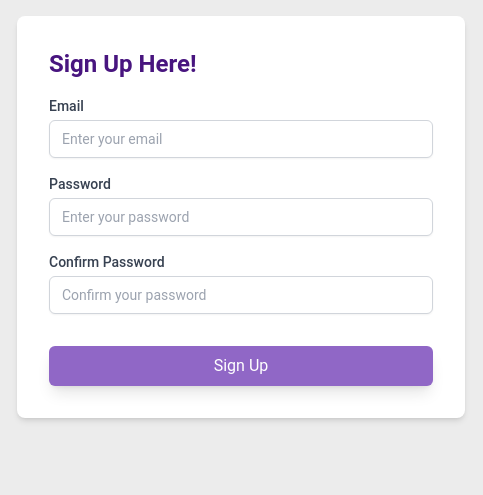
Scenario: SignupForm suite tests › should display validation errors
Click the button "Sign Up": (241, 366) [49,346,433,386]
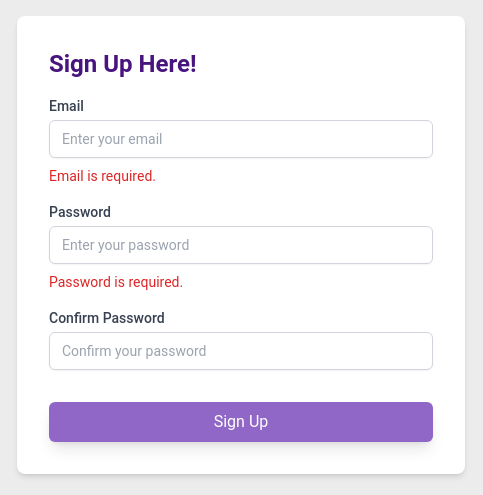
Now the text "Email is required." is shown, box [49,168,156,184]
Now the text "Password is required." is shown, box [49,274,183,290]
In the field with placeholder "Enter your email": (241, 139) [49,120,433,158], type "test@example.com"
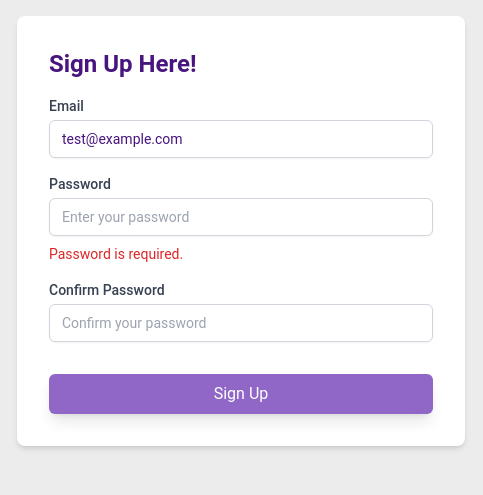
In the password field with placeholder "Enter your password": (241, 217) [49,198,433,236], type "Password1!"
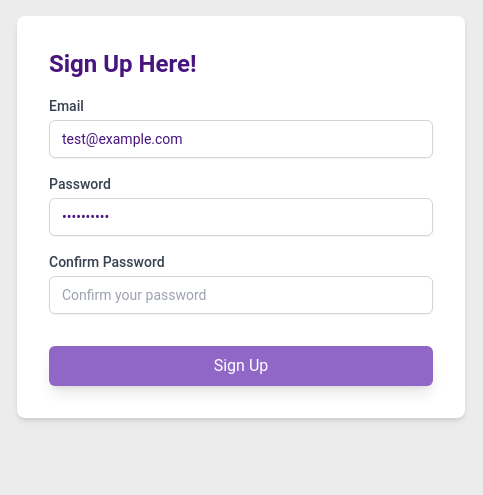
In the password field with placeholder "Confirm your password": (241, 295) [49,276,433,314], type "Password2!"
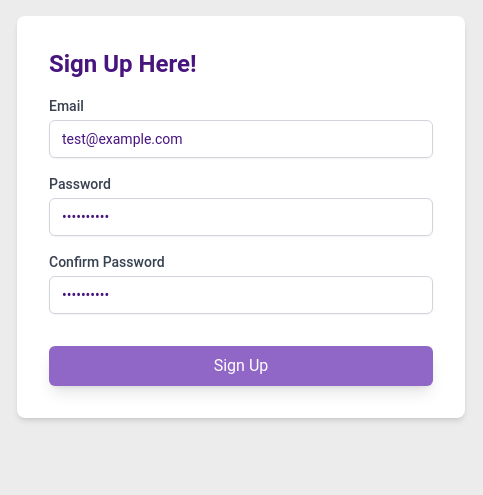
Click the button "Sign Up": (241, 366) [49,346,433,386]
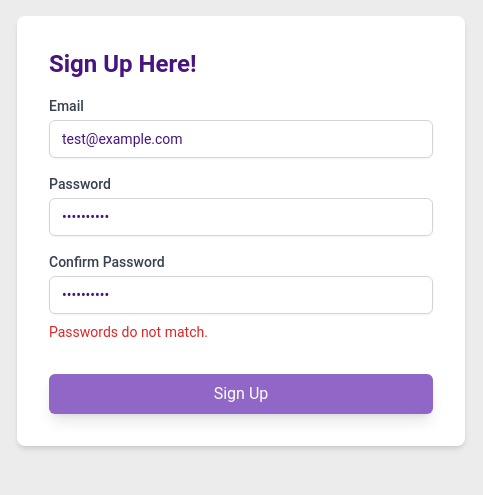
Now the text "Passwords do not match." is shown, box [49,324,208,340]
